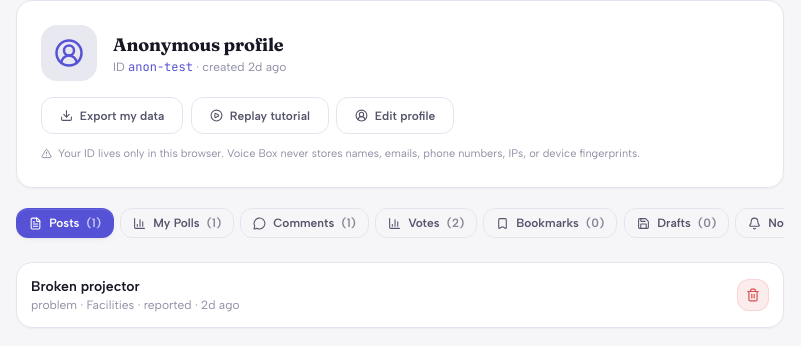
Scenario: MyActivity — poll display branches › renders an archived poll with zero votes and no created date
The image size is (801, 346).
Expected: the heading "Anonymous profile" is shown, [113,31,286,59]
Click the button "My Polls (1)" at (177, 223), box [120,208,234,238]
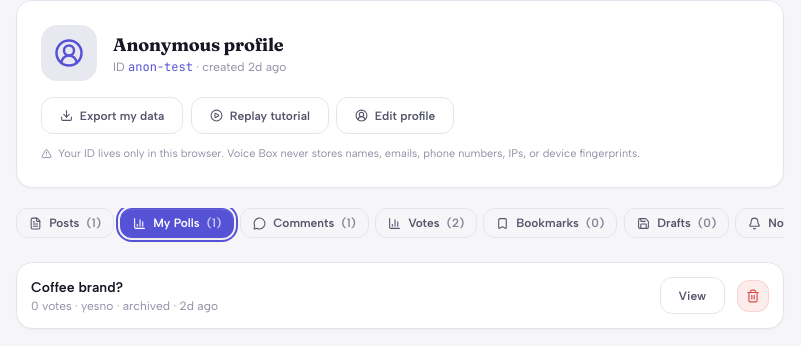
Now the text "0 votes · yesno · archived · 2d ago" is shown, box [31,298,218,312]
